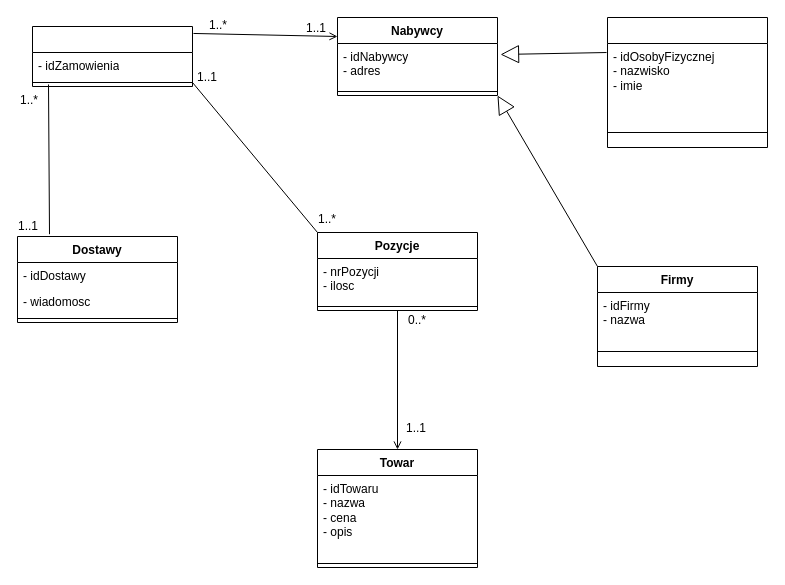
The diagram is 785 pixels wide and 585 high, and some of its shapes have lost their labels. Each missing label, with the box of its shape:
OsobaFizyczna: (606, 16, 768, 148)
Zamówienia: (32, 26, 192, 86)
